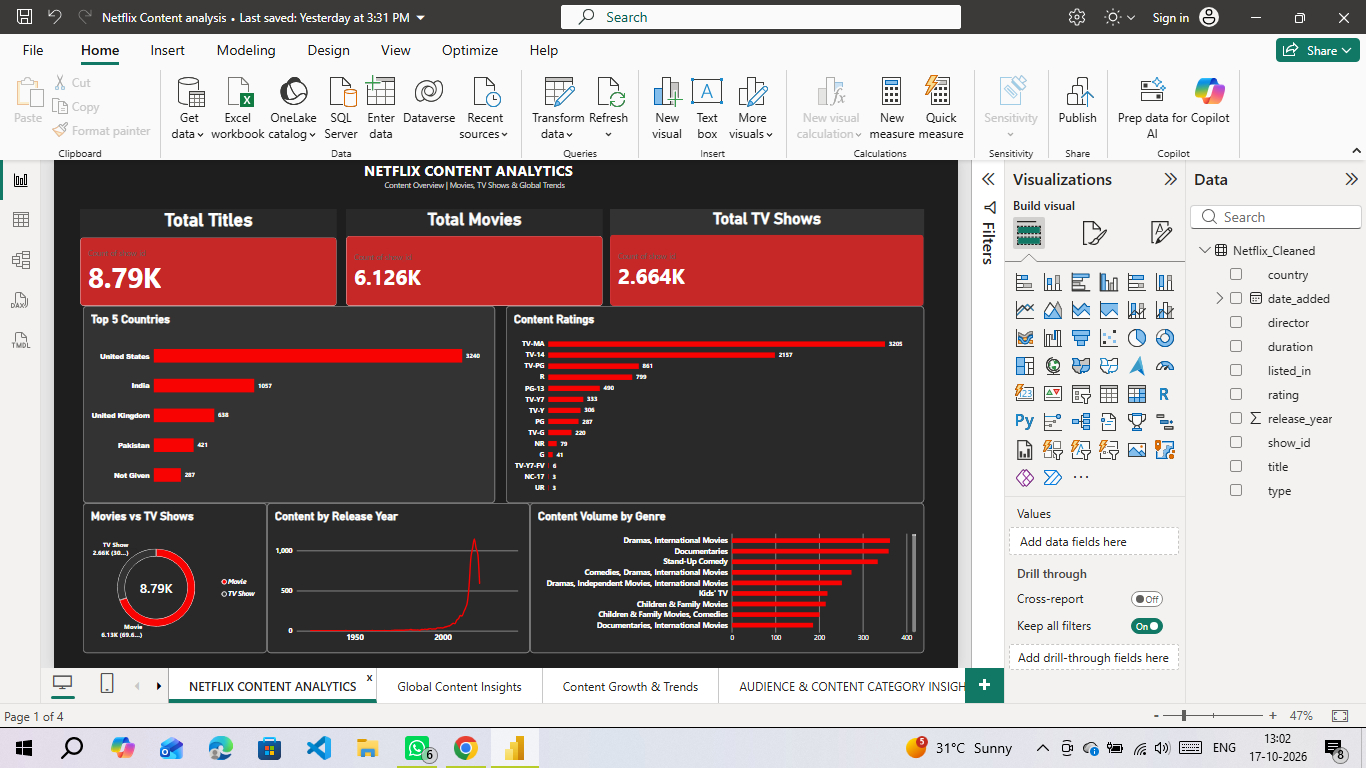

This screenshot's page, from the dashboard's own definition file:
{"tool":"powerbi","page":{"name":"NETFLIX CONTENT ANALYTICS","canvas":[1920,1080],"ordinal":0},"visuals":[{"type":"cardVisual","title":"Total Titles","fields":{"Data":["CountNonNull(Netflix_Cleaned.show_id)"]},"box":[55.3,104.2,546.4,206.2],"z":0},{"type":"cardVisual","title":"Total Movies","fields":{"Data":["CountNonNull(Netflix_Cleaned.show_id)"]},"box":[620.8,104.2,546.4,206.2],"z":1000},{"type":"cardVisual","title":"Total TV Shows","fields":{"Data":["CountNonNull(Netflix_Cleaned.show_id)"]},"box":[1182,104.2,667.6,206.2],"z":2000},{"type":"donutChart","title":"Movies vs TV Shows","fields":{"Category":["Netflix_Cleaned.type"],"Y":["CountNonNull(Netflix_Cleaned.show_id)"]},"box":[61.7,729.2,391.2,318.9],"z":3000},{"type":"clusteredBarChart","title":"Content Ratings","fields":{"Category":["Netflix_Cleaned.rating"],"Y":["CountNonNull(Netflix_Cleaned.show_id)"]},"box":[960.9,310.4,888.7,418.8],"z":4000},{"type":"clusteredBarChart","title":"Top 5 Countries","fields":{"Category":["Netflix_Cleaned.country"],"Y":["CountNonNull(Netflix_Cleaned.show_id)"]},"box":[61.7,310.4,875.9,418.8],"z":5000},{"type":"clusteredBarChart","title":"Content Volume by Genre","fields":{"Category":["Netflix_Cleaned.listed_in"],"Y":["CountNonNull(Netflix_Cleaned.show_id)"]},"box":[1012,729.2,837.6,318.9],"z":6000},{"type":"lineChart","title":"Content by Release Year","fields":{"Category":["Netflix_Cleaned.release_year"],"Y":["CountNonNull(Netflix_Cleaned.show_id)"]},"box":[452.8,729.2,559.1,318.9],"z":7000},{"type":"textbox","title":"NETFLIX CONTENT ANALYTICS","box":[659.1,0,469.8,78.7],"z":8000}]}

Visuals, with their boxes on the page's 1920x1080 design canvas (x1, y1, x2, y2). These are canvas units, not pixel positions in the 1366x768 screenshot, which may show the page scaled, cropped or inside an application window:
"Total Titles" cardVisual: 55,104,602,310
"Total Movies" cardVisual: 621,104,1167,310
"Total TV Shows" cardVisual: 1182,104,1850,310
"Movies vs TV Shows" donutChart: 62,729,453,1048
"Content Ratings" clusteredBarChart: 961,310,1850,729
"Top 5 Countries" clusteredBarChart: 62,310,938,729
"Content Volume by Genre" clusteredBarChart: 1012,729,1850,1048
"Content by Release Year" lineChart: 453,729,1012,1048
"NETFLIX CONTENT ANALYTICS" textbox: 659,0,1129,79
